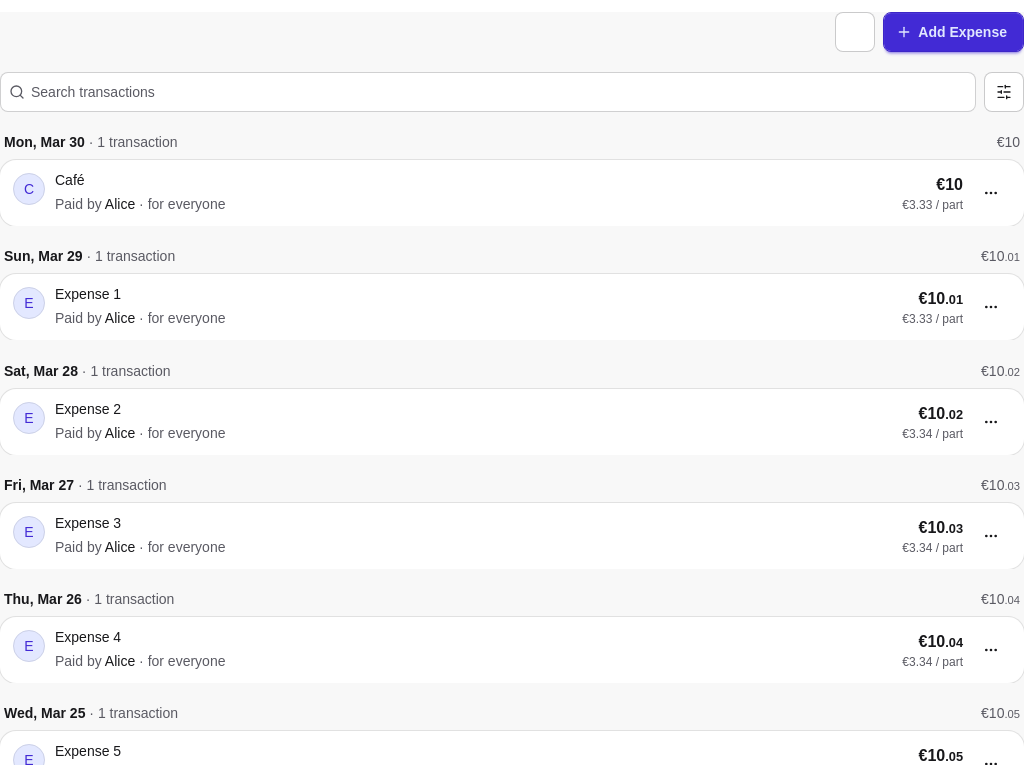
Test case: ExpensesTab › searches as it is typed, and says when nothing matches
The width and height of the screenshot is (1036, 765).
Type "cafe" into the search field.
click(500, 92); type("cafe")  # box [25, 72, 975, 112]
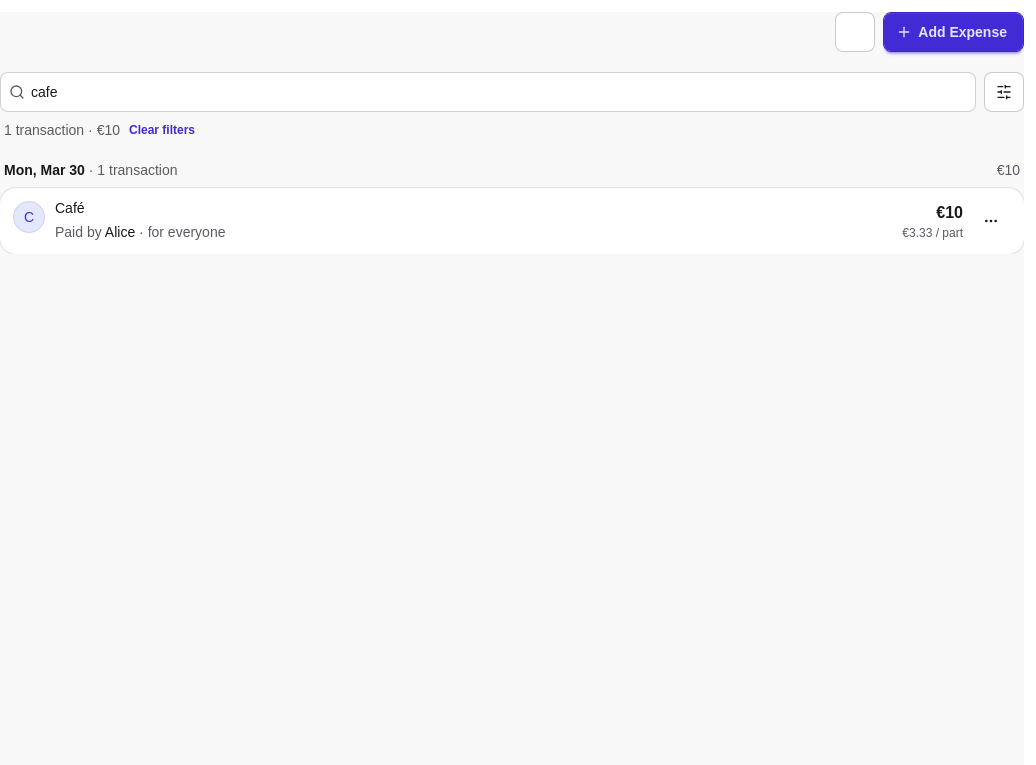
expect the number of list items with test id "expense-item" is 1: met, box [0, 188, 1024, 254]
Replace the text in the search field with "nothing like it" at x=500, y=92, box [25, 72, 975, 112]
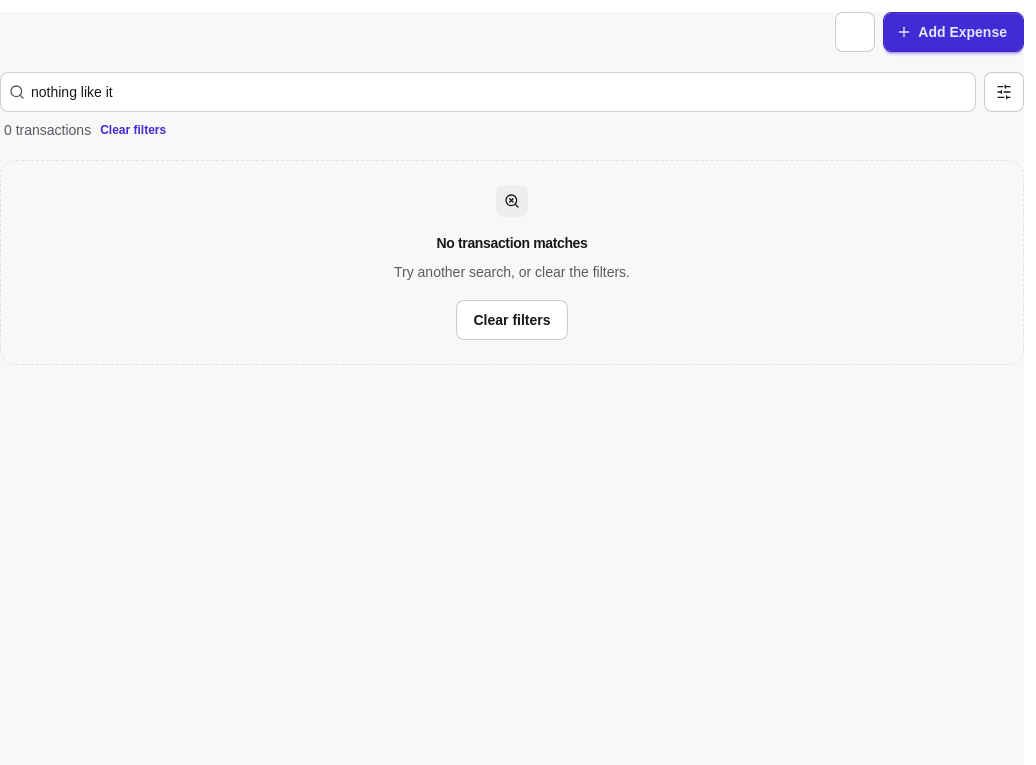
expect no list items with test id "expense-item" are shown: met
expect the text "No transaction matches" is shown: met, box [436, 233, 588, 253]
Click the button "Clear filters" next to "0 transactions".
click(133, 130)  # box [99, 121, 167, 139]
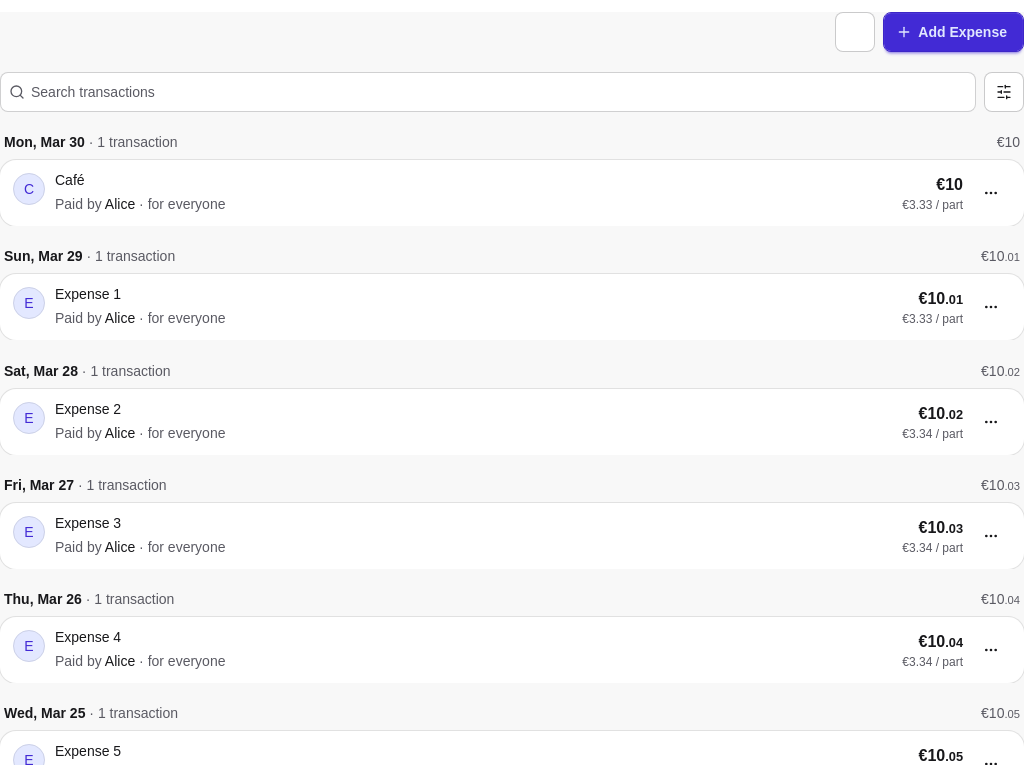
expect the number of list items with test id "expense-item" is 10: met
